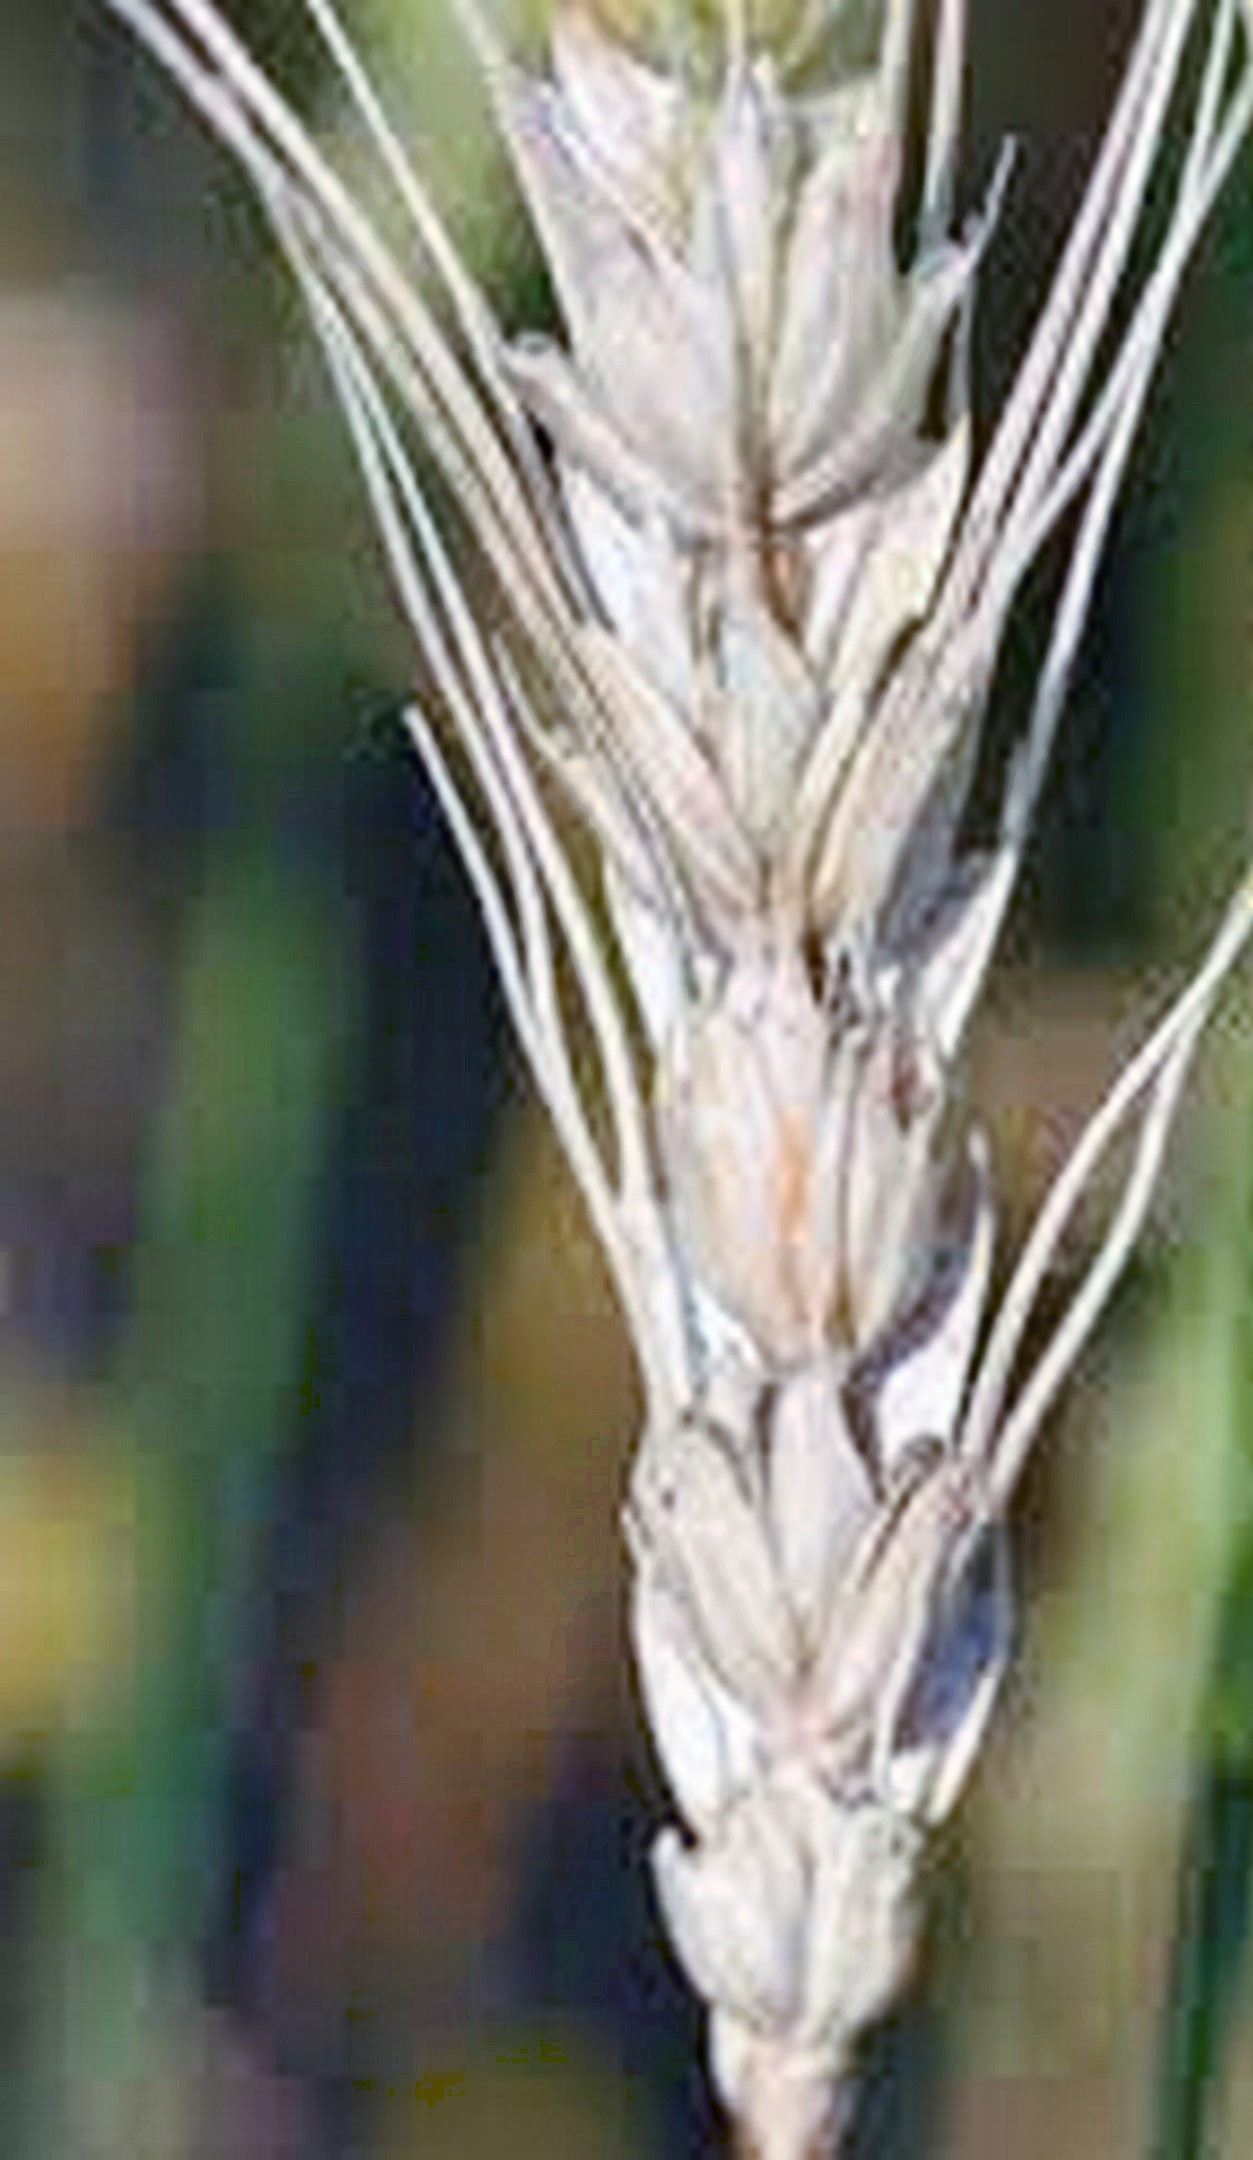Wheat scab: (368, 7, 1105, 2087)
